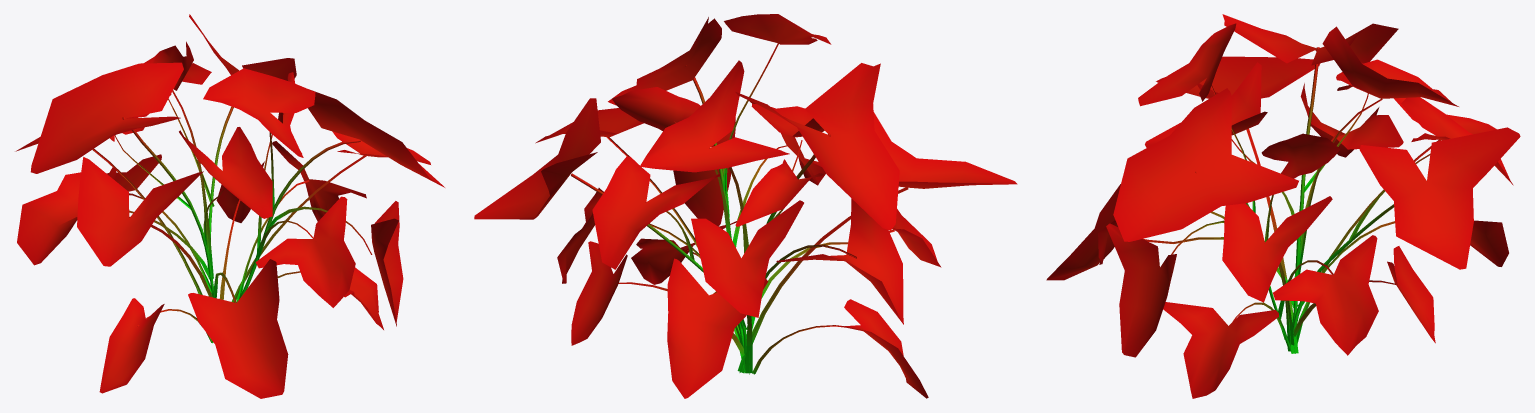
File: Arrowhead Plant_LOD1_Var5_sjsmD.fbx
3 views of the same model, side by side, from view 1: azimuth 30°, elevation 25°; view 2: azimuth 150°, elevation 25°; view 3: azimuth 270°, elevation 25° (orthographic). The views are drawn at different scales.
Visible parts, largest first — view 1: _a8c1_Var5_LOD1; view 2: _a8c1_Var5_LOD1; view 3: _a8c1_Var5_LOD1.
Boxes of the visible parts, <box> form: _a8c1_Var5_LOD1: <box>15,14,444,398</box>; _a8c1_Var5_LOD1: <box>474,14,1017,398</box>; _a8c1_Var5_LOD1: <box>1046,14,1520,398</box>.
Bounding box in the file's own units: 77.85 × 59.04 × 77.83.
